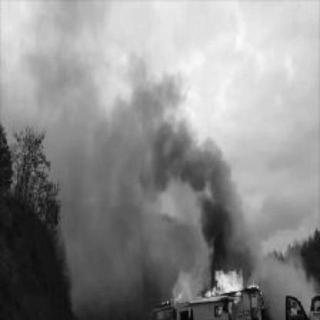Fire: (198, 258, 240, 314)
Smoke: (11, 63, 268, 259)
